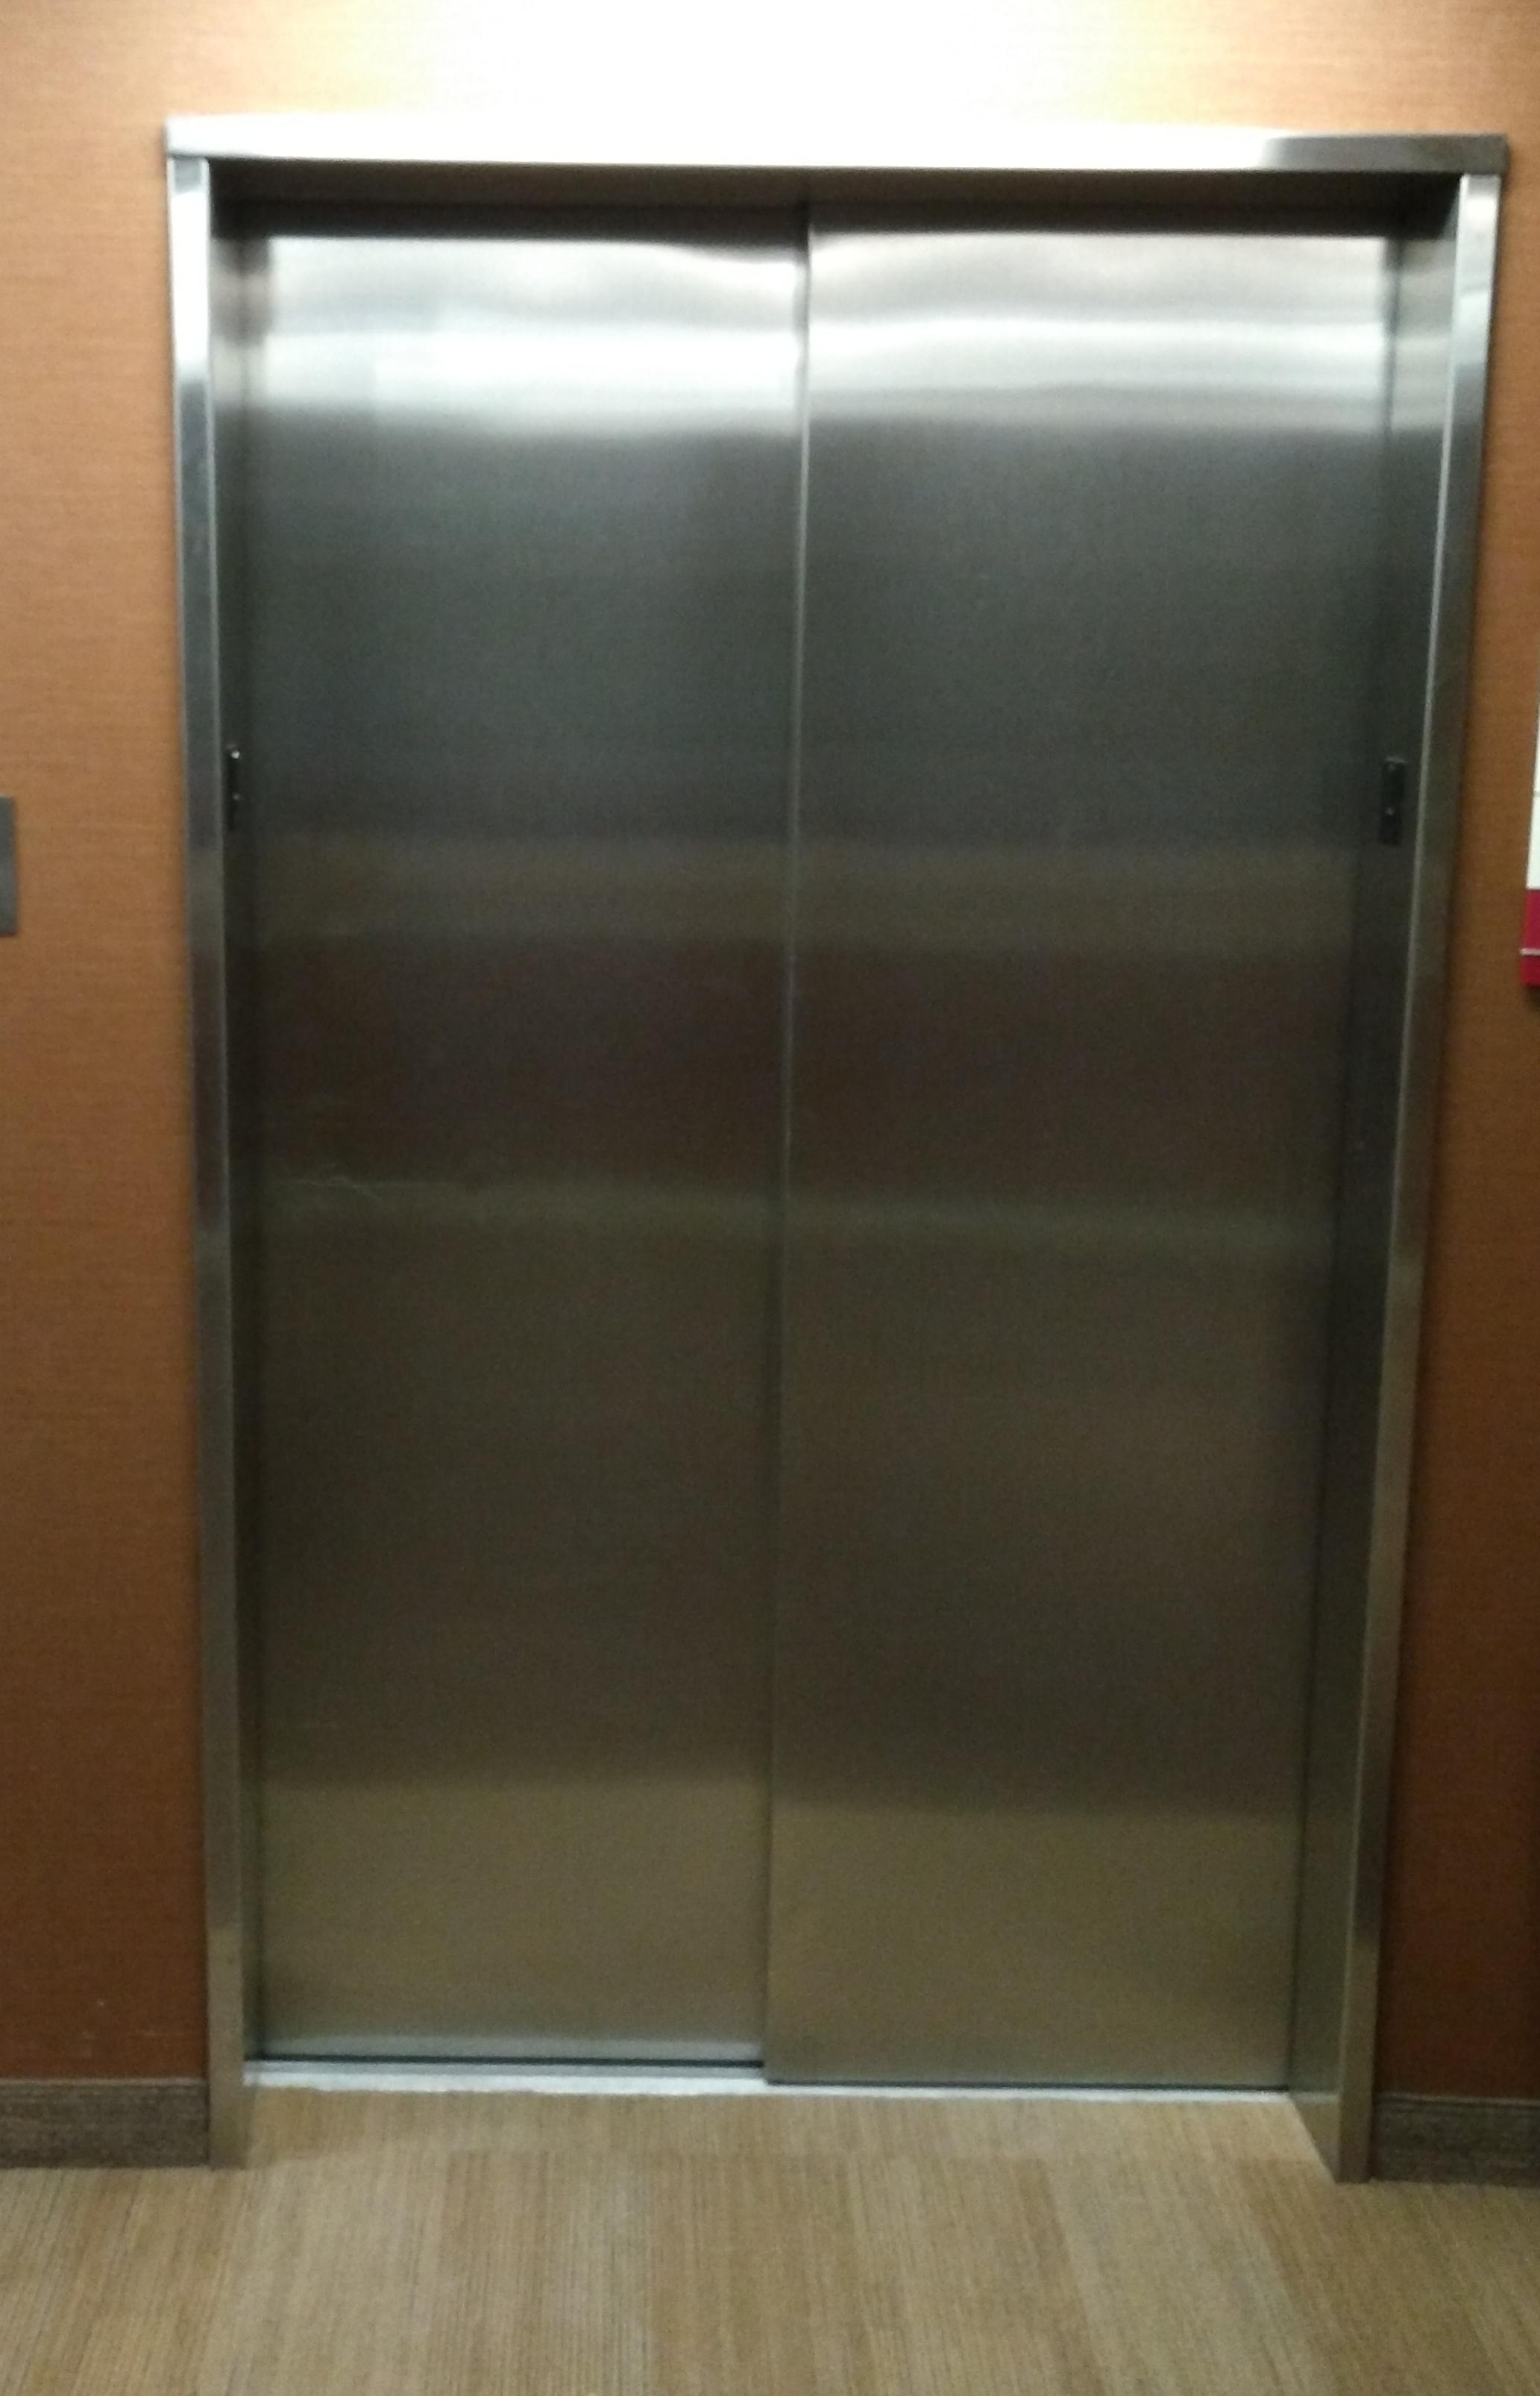door: (168, 122, 1449, 2141)
